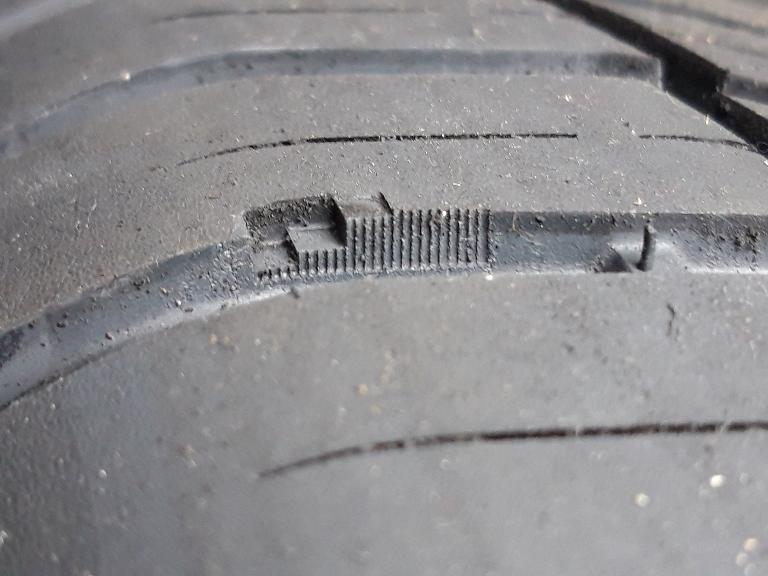temoin:50: (232, 188, 399, 291)
